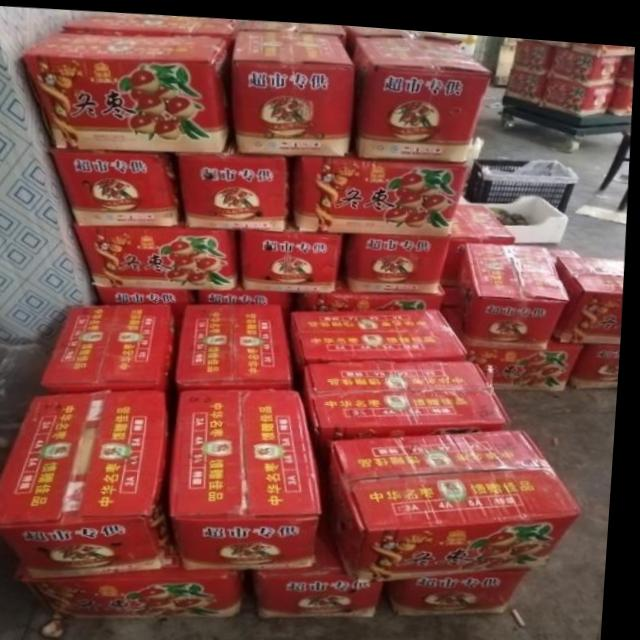box: (331, 420, 589, 574), (0, 386, 179, 577), (176, 384, 327, 566), (23, 30, 234, 149), (306, 353, 514, 461), (23, 540, 257, 618), (350, 31, 491, 154), (292, 141, 469, 228), (230, 27, 355, 150), (259, 510, 391, 613), (44, 301, 184, 394), (292, 302, 473, 372), (175, 126, 292, 226), (461, 237, 572, 342), (76, 218, 243, 287), (180, 299, 295, 386), (52, 147, 183, 223), (238, 214, 347, 288), (63, 9, 240, 51), (393, 558, 541, 608), (296, 260, 447, 307), (470, 326, 588, 383), (347, 227, 453, 287), (558, 246, 627, 335), (444, 197, 517, 278), (200, 277, 298, 322), (95, 284, 199, 322), (539, 65, 615, 107), (549, 38, 624, 77), (240, 15, 350, 38), (573, 334, 624, 378), (349, 20, 461, 36), (504, 60, 546, 95), (512, 32, 555, 65), (569, 33, 634, 46), (609, 75, 633, 106), (616, 45, 634, 78), (524, 31, 571, 39)
